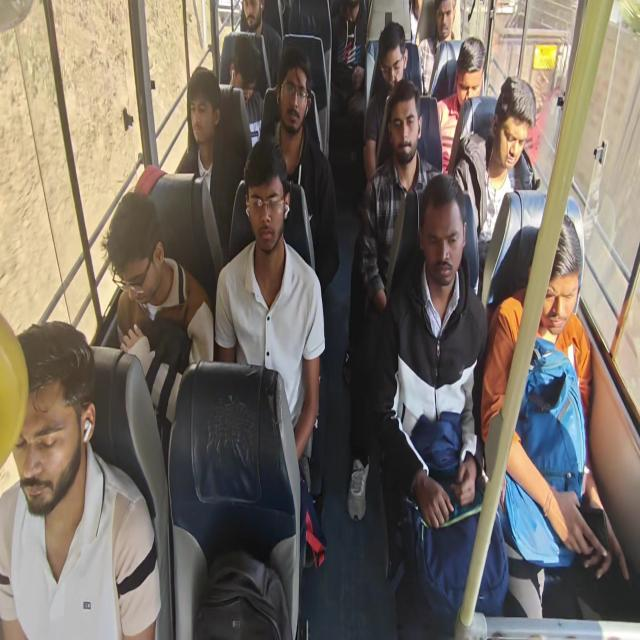person: (16, 330, 82, 500), (542, 225, 586, 325), (377, 87, 423, 182), (112, 225, 168, 303), (496, 82, 534, 170), (427, 200, 467, 280), (249, 168, 287, 250), (453, 42, 491, 105), (368, 36, 408, 93), (186, 72, 223, 131), (279, 77, 309, 143), (227, 50, 259, 102), (240, 1, 266, 34), (436, 5, 454, 42)
